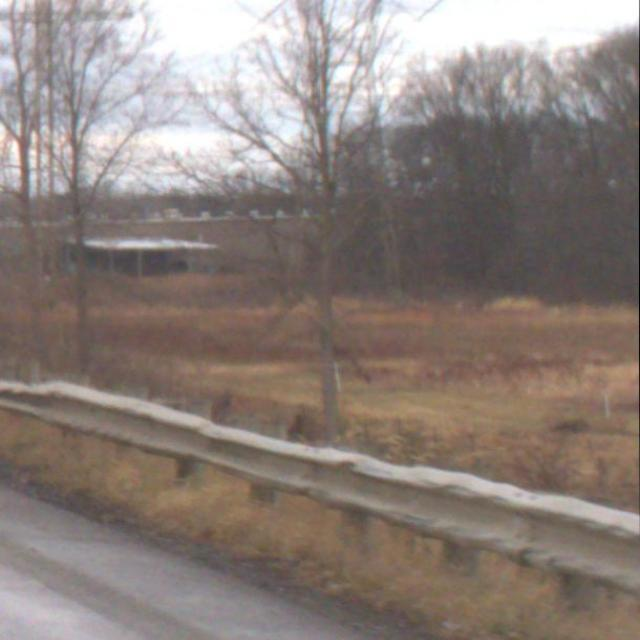Guard rail: (0, 370, 640, 616)
